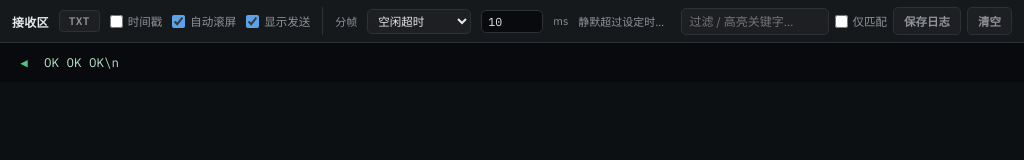
Scenario: LogPane › 过滤关键字被高亮，且所有匹配都标出来
The image size is (1024, 160).
Type "OK" into the field with placeholder "过滤 / 高亮关键字…" at (754, 21), box [680,8,828,34]
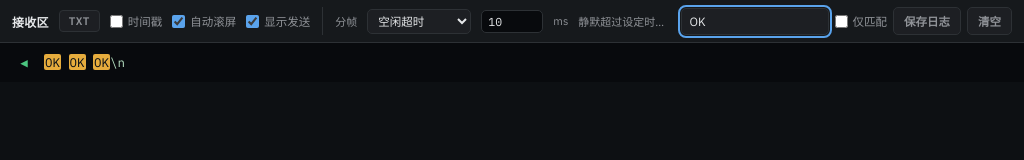
Expected: the text "OK" is shown 3 times, [44,54,61,70]; [68,54,86,70]; [93,54,110,70]
